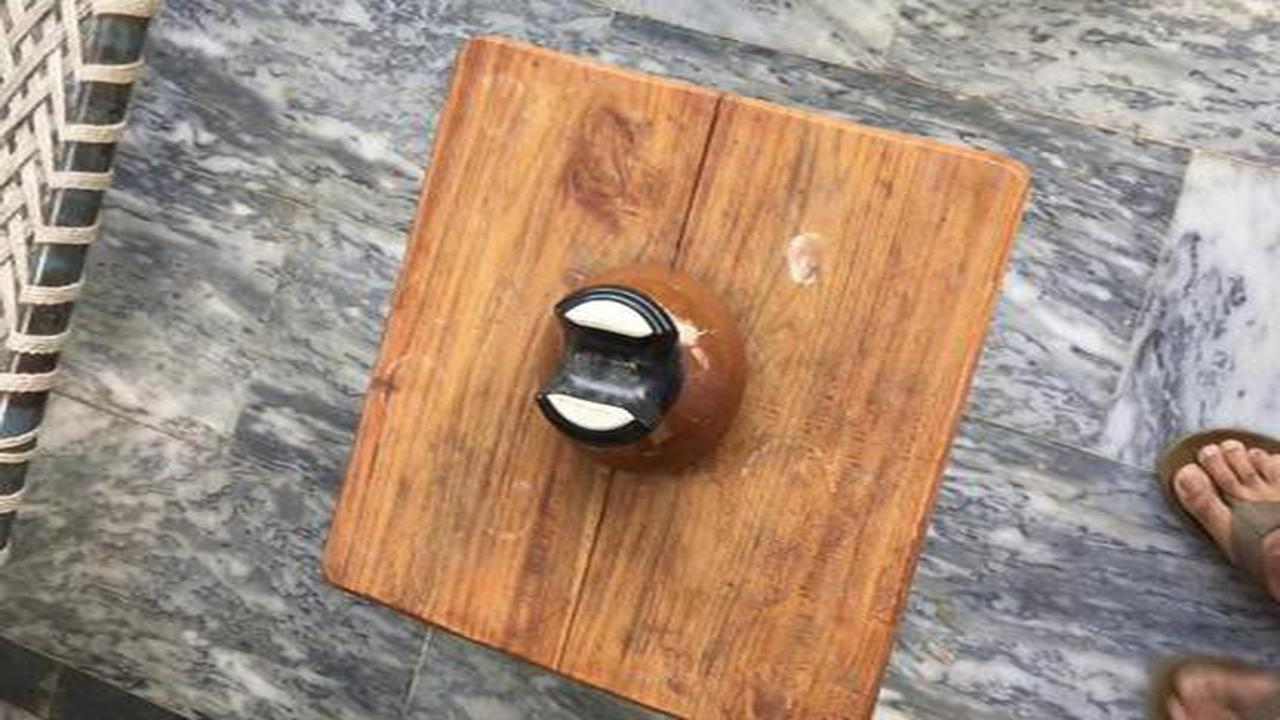insulator_pin: (505, 251, 764, 494)
